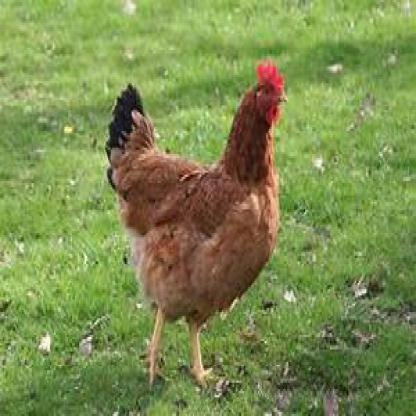chicken: (106, 60, 282, 393)
